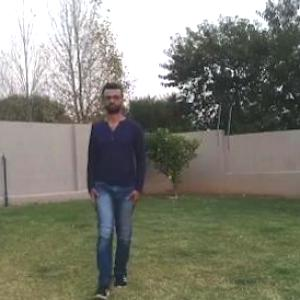follow: (91, 100, 137, 284)
